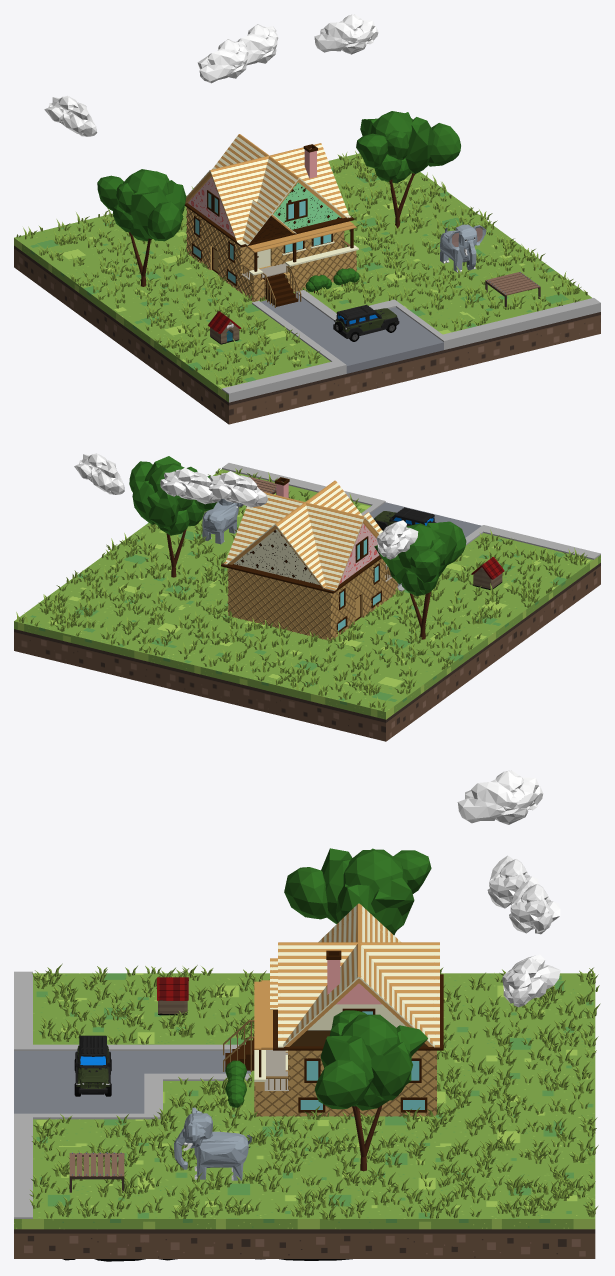
3 views of the same model, one above another, from view 1: azimuth 30°, elevation 25°; view 2: azimuth 150°, elevation 25°; view 3: azimuth 270°, elevation 25° (orthographic). The views are drawn at different scales.
Visible parts, largest first — view 1: Cube.006, Cube.1102, Circle.012_Grass_0.192, Cube.007, tree, tree.001, VEHICLES_JEEP, ANIMAL_ELEFANTE, Cube.009, OBJRANDOM_DOGHOUSE; view 2: Cube.006, Cube.1102, Circle.012_Grass_0.192, Cube.007, tree.001, tree, ANIMAL_ELEFANTE, VEHICLES_JEEP, OBJRANDOM_DOGHOUSE; view 3: Cube.006, Circle.012_Grass_0.192, Cube.1102, tree, Cube.007, tree.001, ANIMAL_ELEFANTE, VEHICLES_JEEP, Cube.009, OBJRANDOM_DOGHOUSE.
Boxes of the visible parts, box(x1,y1,x2,y2) form: Cube.006: box(14, 153, 600, 424); Cube.1102: box(185, 134, 358, 307); Circle.012_Grass_0.192: box(16, 151, 587, 386); Cube.007: box(44, 14, 378, 136); tree: box(356, 111, 460, 228); tree.001: box(97, 169, 186, 286); VEHICLES_JEEP: box(333, 304, 399, 341); ANIMAL_ELEFANTE: box(440, 224, 486, 272); Cube.009: box(485, 272, 540, 306); OBJRANDOM_DOGHOUSE: box(208, 311, 241, 344); Cube.006: box(14, 463, 600, 741); Cube.1102: box(221, 477, 398, 640); Circle.012_Grass_0.192: box(16, 468, 587, 711); Cube.007: box(74, 453, 418, 559); tree.001: box(374, 521, 466, 639); tree: box(129, 456, 216, 577); ANIMAL_ELEFANTE: box(202, 499, 243, 544); VEHICLES_JEEP: box(374, 507, 436, 530); OBJRANDOM_DOGHOUSE: box(471, 557, 504, 589); Cube.006: box(14, 971, 595, 1258); Circle.012_Grass_0.192: box(29, 963, 600, 1220); Cube.1102: box(223, 903, 443, 1116); tree: box(314, 1010, 427, 1171); Cube.007: box(457, 770, 560, 1007); tree.001: box(284, 848, 431, 935); ANIMAL_ELEFANTE: box(174, 1107, 251, 1180); VEHICLES_JEEP: box(74, 1035, 111, 1096); Cube.009: box(69, 1152, 124, 1192); OBJRANDOM_DOGHOUSE: box(156, 977, 188, 1015).
Size of the model in its own units: 4071 by 2149 by 4040.
36 materials, 4 textured.
